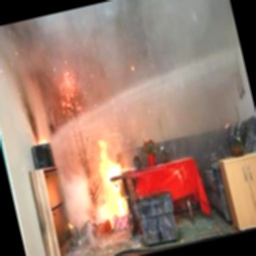fire: (80, 135, 140, 228)
smoke: (22, 4, 173, 141)
